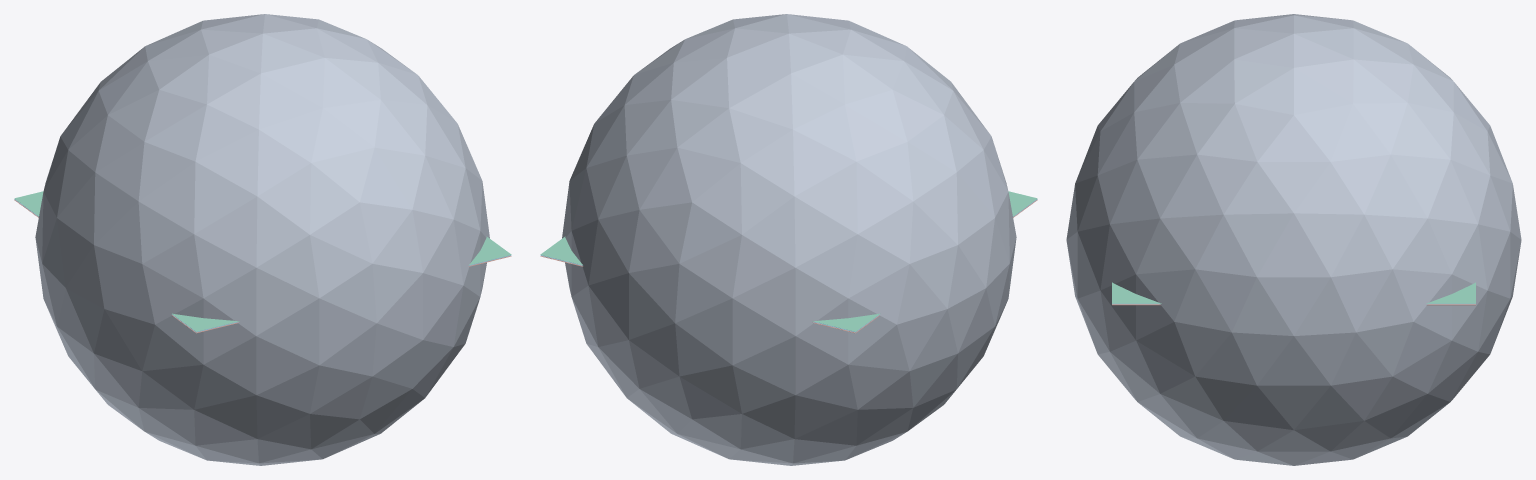
File: breathing_crystal_universal_constants_v1.glb
3 renders of one model, left to right at view 1: azimuth 30°, elevation 25°; view 2: azimuth 150°, elevation 25°; view 3: azimuth 270°, elevation 25°, orthographic.
Parts seen in each view (by area): view 1: Oort_Cloud, eta_0487; view 2: Oort_Cloud, eta_0487; view 3: Oort_Cloud, eta_0487.
Boxes of the visible parts, <box> form: Oort_Cloud: <box>35,14,489,465</box>; eta_0487: <box>14,191,511,331</box>; Oort_Cloud: <box>562,14,1016,465</box>; eta_0487: <box>540,191,1037,331</box>; Oort_Cloud: <box>1066,14,1521,465</box>; eta_0487: <box>1112,282,1475,303</box>.
Size of the model in its own units: 15 by 15 by 15.
